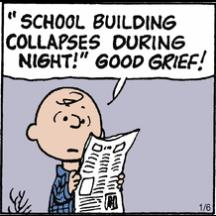charlie: (24, 84, 128, 213)
